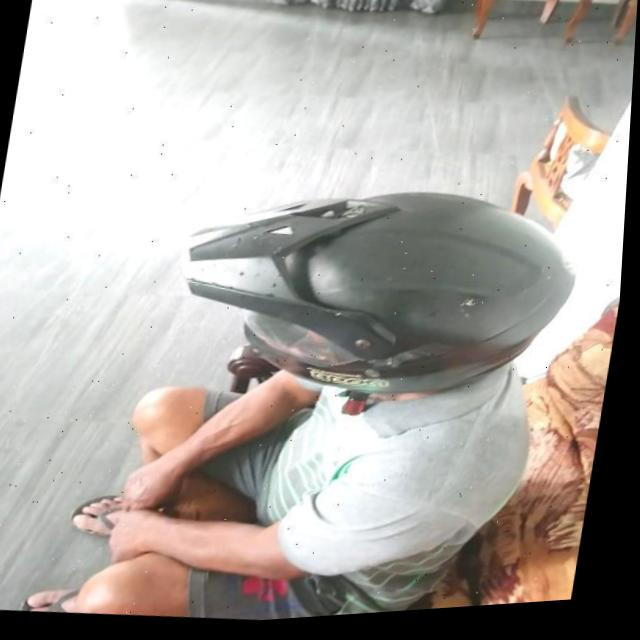helmet: (160, 164, 591, 452)
